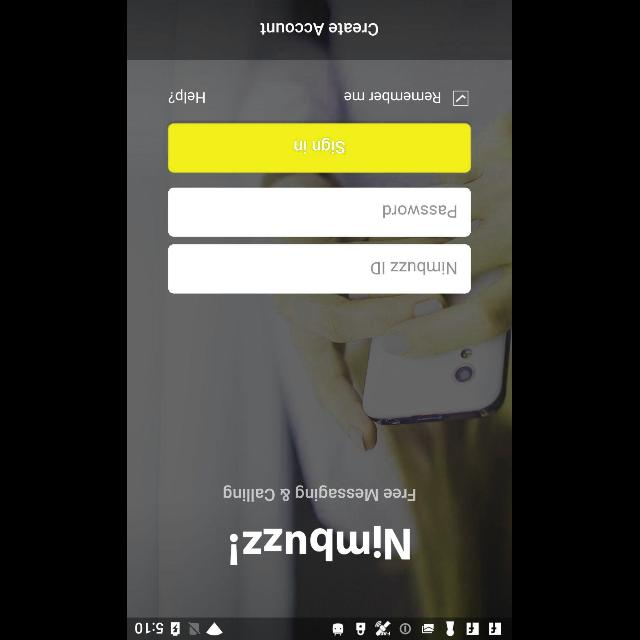backgroundimage: (129, 59, 513, 616)
checkbox: (454, 90, 470, 106)
image: (231, 525, 411, 565)
input: (168, 244, 472, 294), (168, 188, 472, 236)
text: (224, 484, 416, 502), (344, 92, 442, 104), (372, 262, 456, 274), (384, 206, 456, 218), (169, 88, 205, 104)
textbutton: (128, 0, 512, 60), (169, 124, 471, 172)
uppertaskbar: (128, 617, 512, 639)
